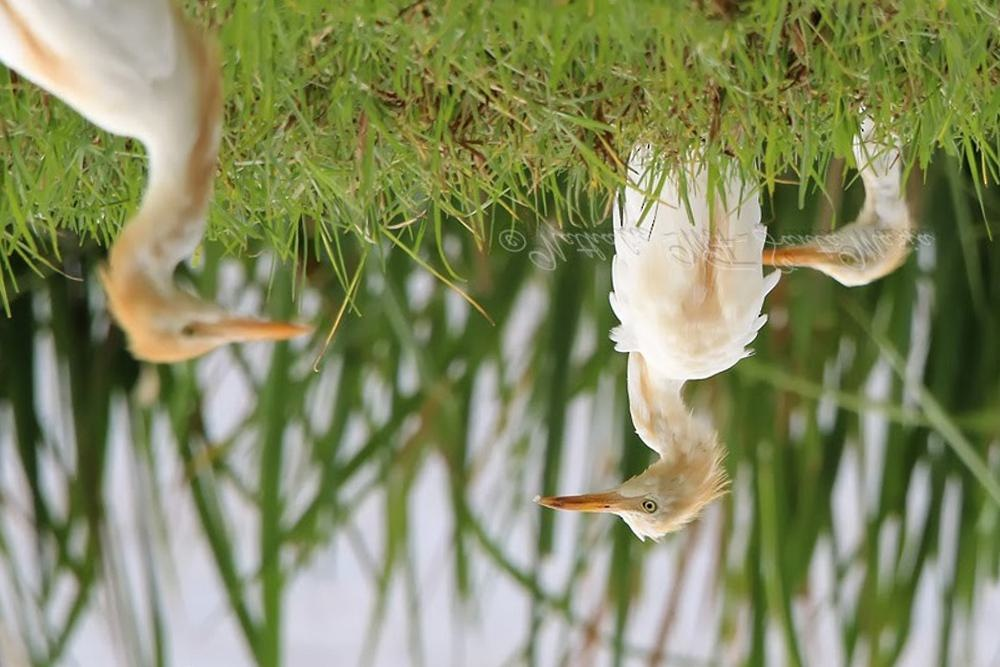egret: (1, 1, 317, 367), (534, 140, 777, 542), (772, 143, 938, 291)
